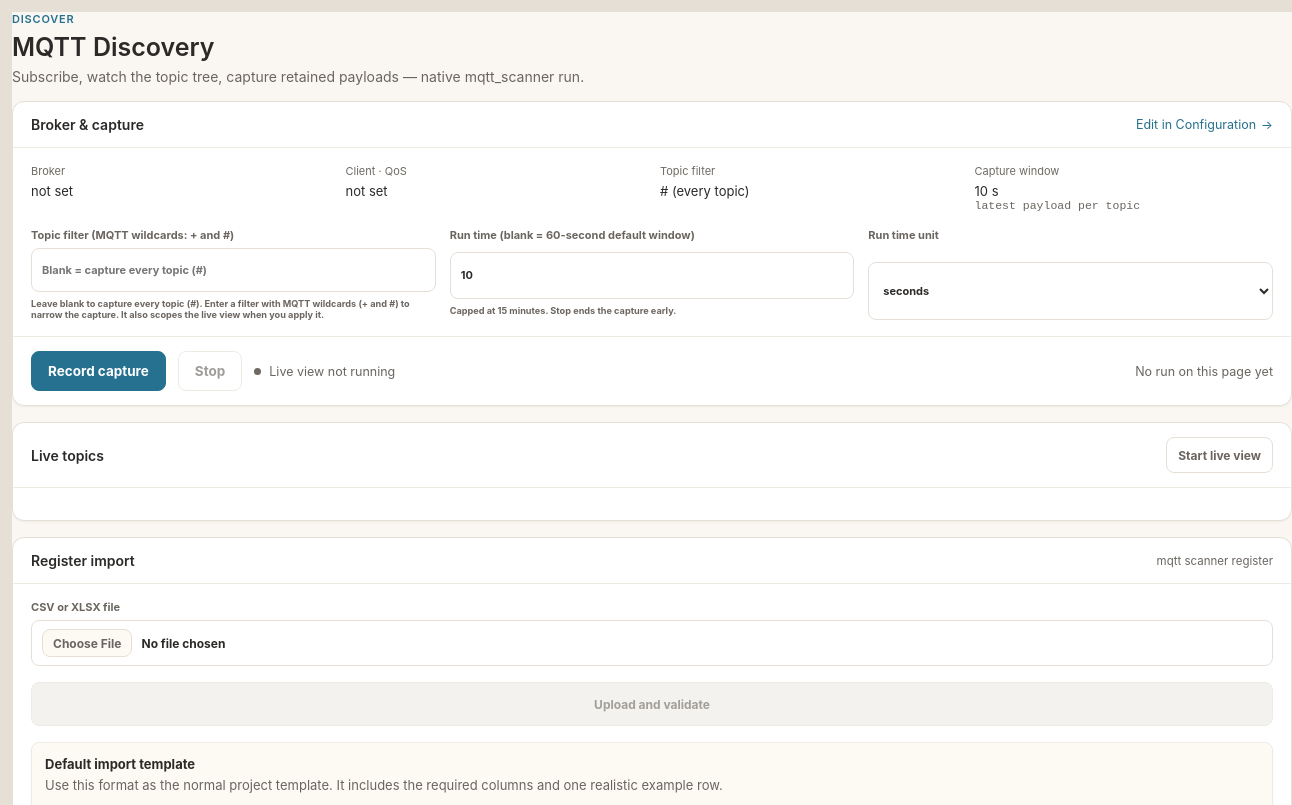
Test: MqttScannerPage › passes the topic filter through as the live session's root filter
Type "example/#" into the field labelled "Topic filter" at point(233, 270), box [31,248,436,292]
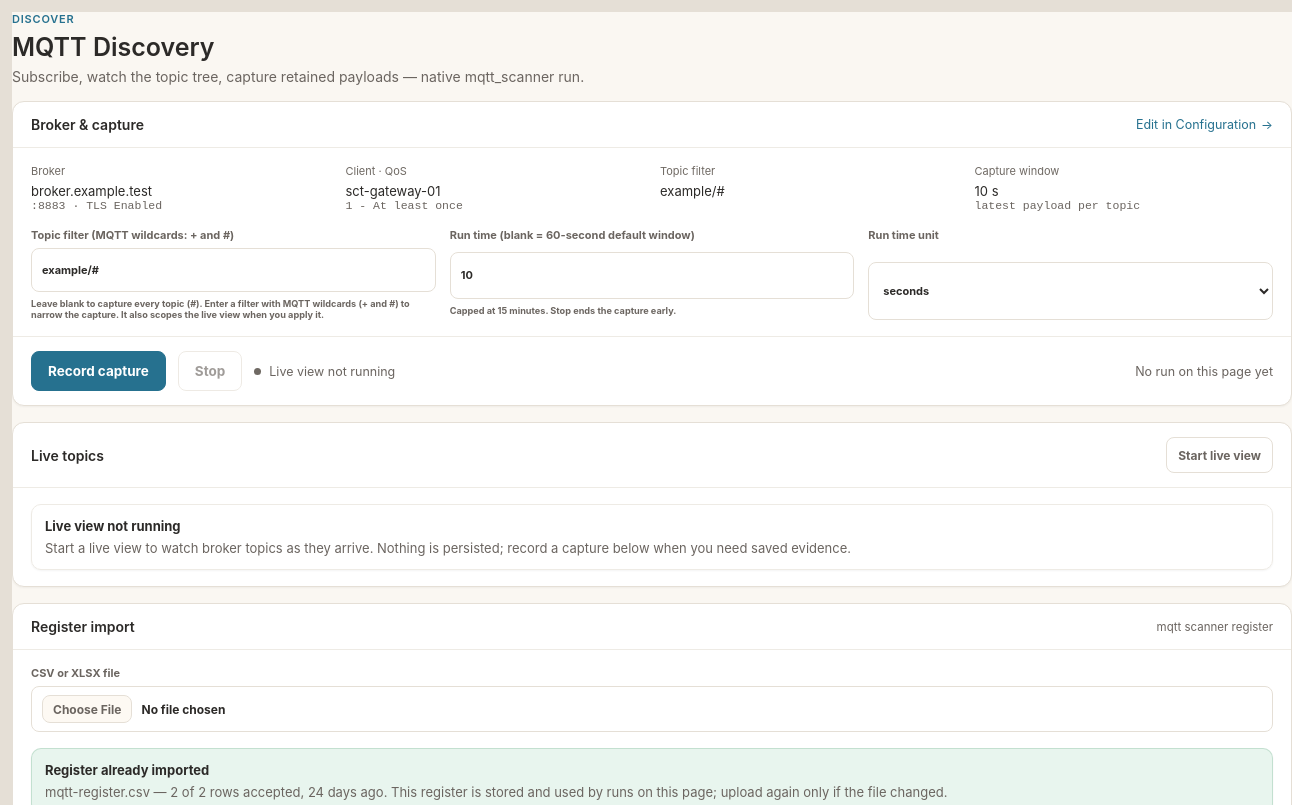
Expected: the text "example/#" is shown, [660,183,725,199]
